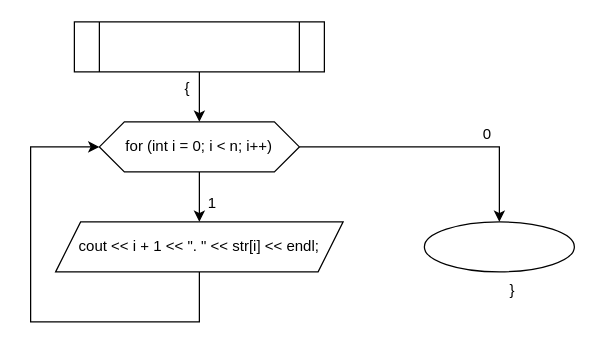
Image size: 596x354. Some labels were removed from this diagram. Here are the shapes that lost their labels. From the top down, the box of each, then its label:
(73, 21, 324, 72): void show(string* str, int n)
(423, 221, 574, 272): return;
